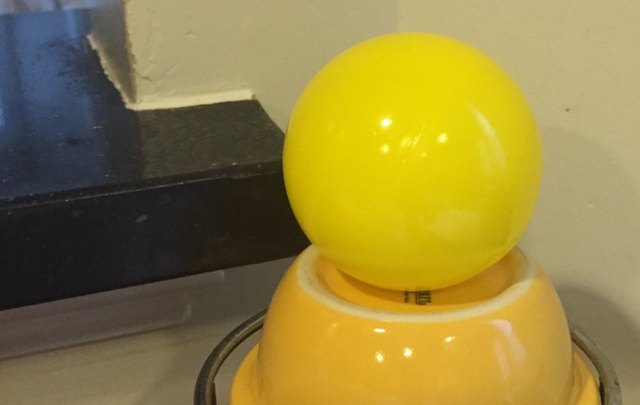ball: (280, 29, 545, 291)
